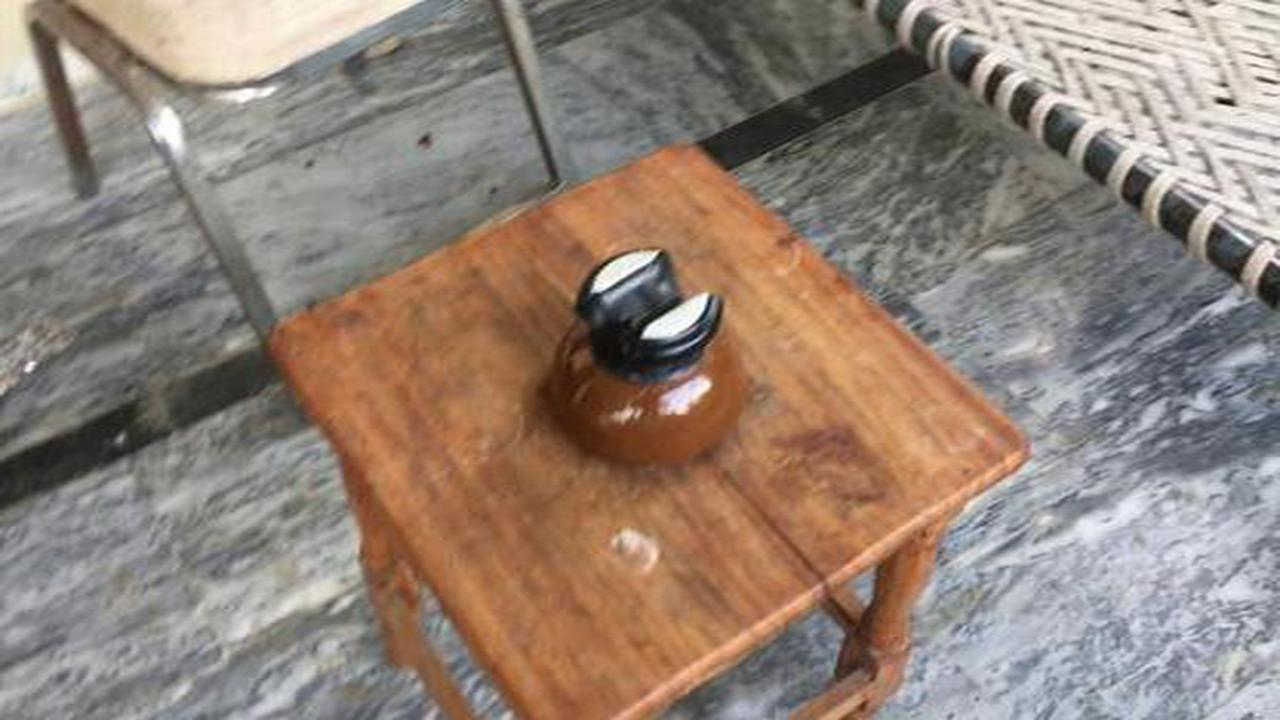insulator_pin: (502, 233, 776, 485)
